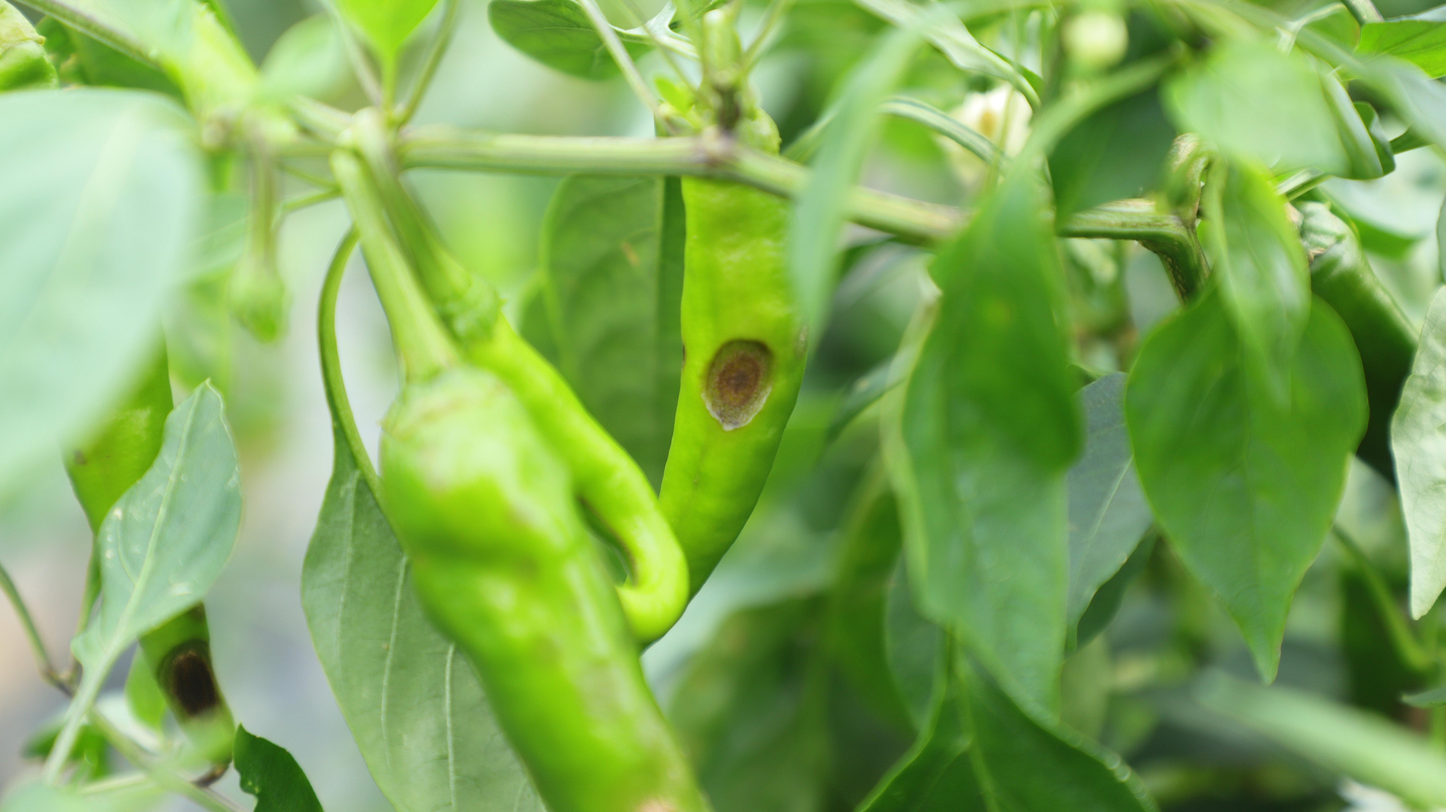Buah Cabai Sehat: (322, 353, 716, 807)
Busuk Buah Antraknosa: (603, 107, 811, 664)
